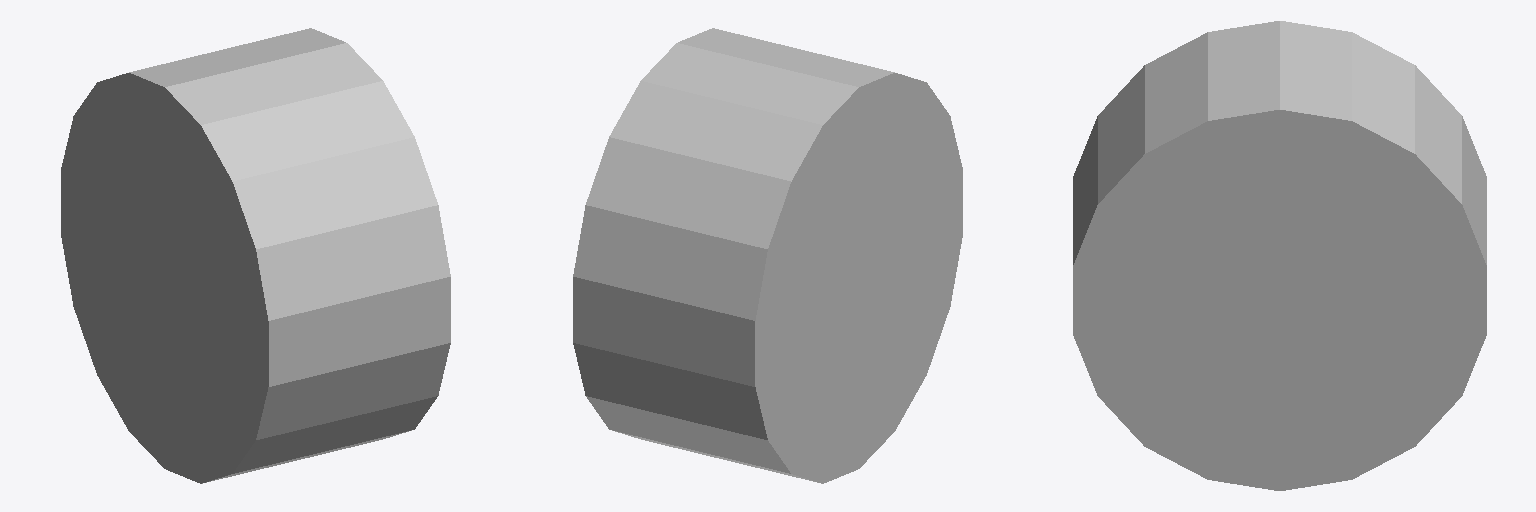
The model's file is cylinder_1m_radius_1m_long.obj.
The picture shows the model from 3 angles: view 1: azimuth 30°, elevation 25°; view 2: azimuth 150°, elevation 25°; view 3: azimuth 270°, elevation 25°; orthographic projection.
Visible parts, largest first — view 1: Cylinder01; view 2: Cylinder01; view 3: Cylinder01.
Boxes of the visible parts, x1=… form: Cylinder01: x1=61, y1=28, x2=450, y2=483; Cylinder01: x1=573, y1=28, x2=962, y2=483; Cylinder01: x1=1073, y1=21, x2=1486, y2=490.
Bounding box in the file's own units: 1 × 2 × 1.97.